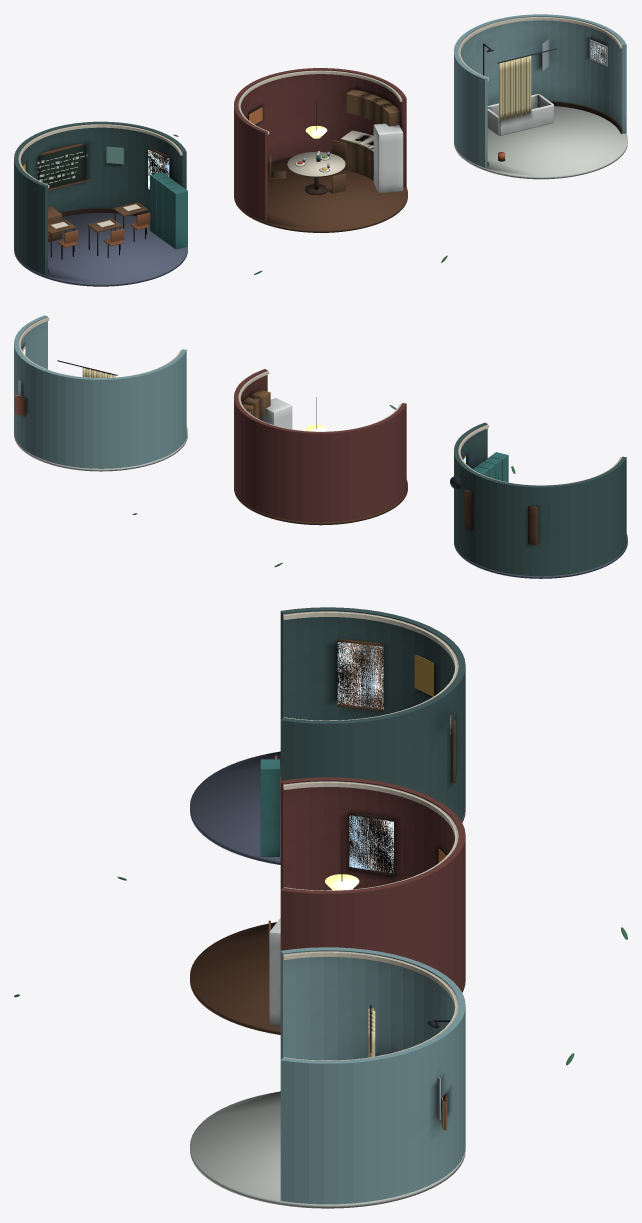
The model's file is set_vignettes.glb.
The picture shows the model from 3 angles, top to bottom: view 1: azimuth 30°, elevation 25°; view 2: azimuth 150°, elevation 25°; view 3: azimuth 270°, elevation 25°; orthographic projection. The views are drawn at different scales.
Parts seen in each view (by area): view 1: shower_wall, dinner_wall, class_wall, shower_floor, class_floor, dinner_floor, fridge, chalkboard, locker, tablecloth, tub_front, dinner_crown (+10 smaller); view 2: shower_wall, dinner_wall, class_wall, chalk_frame, fridge, shower_floor, class_floor, dinner_floor, dinner_crown, shower_crown, class_crown; view 3: shower_wall, dinner_wall, class_wall, shower_floor, dinner_floor, class_floor, win_frame.001, win_frame.002, win_pane.001, locker, win_pane.002, dinner_crown (+3 smaller).
Part boxes in pixels (x1,y1,x2,y2): shower_wall: (454, 14, 626, 167); dinner_wall: (234, 68, 406, 221); class_wall: (14, 121, 186, 275); shower_floor: (454, 106, 627, 179); class_floor: (14, 213, 187, 286); dinner_floor: (234, 162, 407, 232); fridge: (373, 123, 403, 193); chalkboard: (38, 145, 85, 187); locker: (169, 186, 187, 249); tablecloth: (287, 151, 345, 176); tub_front: (499, 104, 553, 135); dinner_crown: (238, 70, 402, 134); shower_wall: (14, 315, 186, 468); dinner_wall: (234, 369, 406, 522); class_wall: (454, 422, 626, 576); chalk_frame: (464, 489, 537, 545); fridge: (259, 398, 292, 429); shower_floor: (14, 426, 187, 471); class_floor: (454, 534, 627, 578); dinner_floor: (234, 480, 407, 525); dinner_crown: (238, 371, 401, 431); shower_crown: (18, 317, 181, 378); class_crown: (458, 424, 621, 485); shower_wall: (280, 947, 465, 1204); dinner_wall: (280, 777, 465, 990); class_wall: (280, 607, 465, 820); shower_floor: (190, 1091, 465, 1208); dinner_floor: (190, 922, 465, 1034); class_floor: (190, 751, 465, 864); win_frame.001: (337, 639, 383, 711); win_frame.002: (349, 812, 393, 875); win_pane.001: (337, 642, 383, 709); locker: (260, 759, 279, 856); win_pane.002: (349, 815, 393, 872); dinner_crown: (283, 781, 458, 890).
Size of the model in its own units: 18.8 by 2.89 by 10.69.
